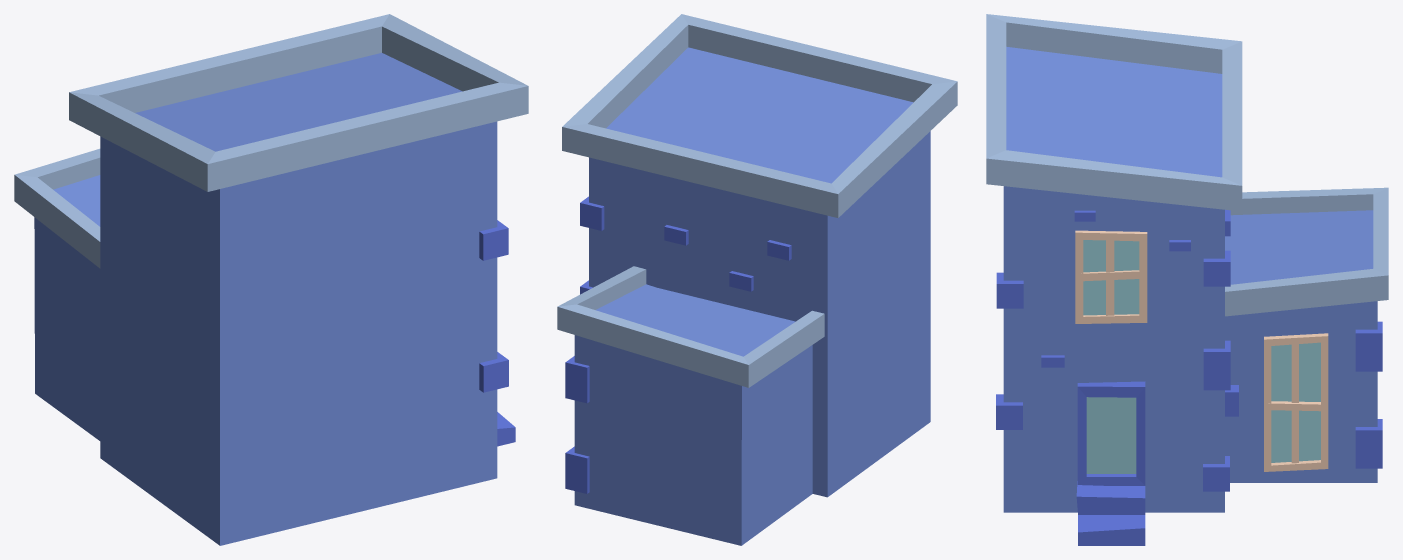
The model's file is Blue_house_Big.fbx.
The picture shows the model from 3 angles, left to right: view 1: azimuth 30°, elevation 25°; view 2: azimuth 150°, elevation 25°; view 3: azimuth 270°, elevation 25°; orthographic projection. The views are drawn at different scales.
Parts seen in each view (by area): view 1: Blue house Big; view 2: Blue house Big; view 3: Blue house Big.
Boxes of the visible parts, <box> form: Blue house Big: <box>14,14,528,545</box>; Blue house Big: <box>557,14,957,545</box>; Blue house Big: <box>986,14,1388,545</box>.
Bounding box in the file's own units: 1423 × 1526 × 1501.
